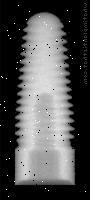Keystone Dental: (15, 11, 76, 185)
